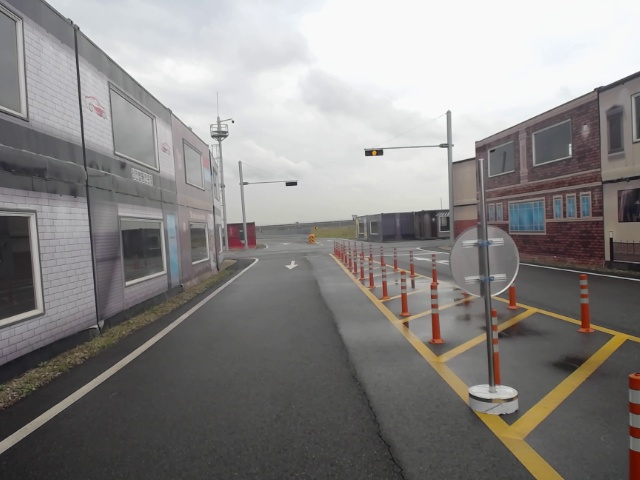orange_3: (364, 148, 384, 156)
